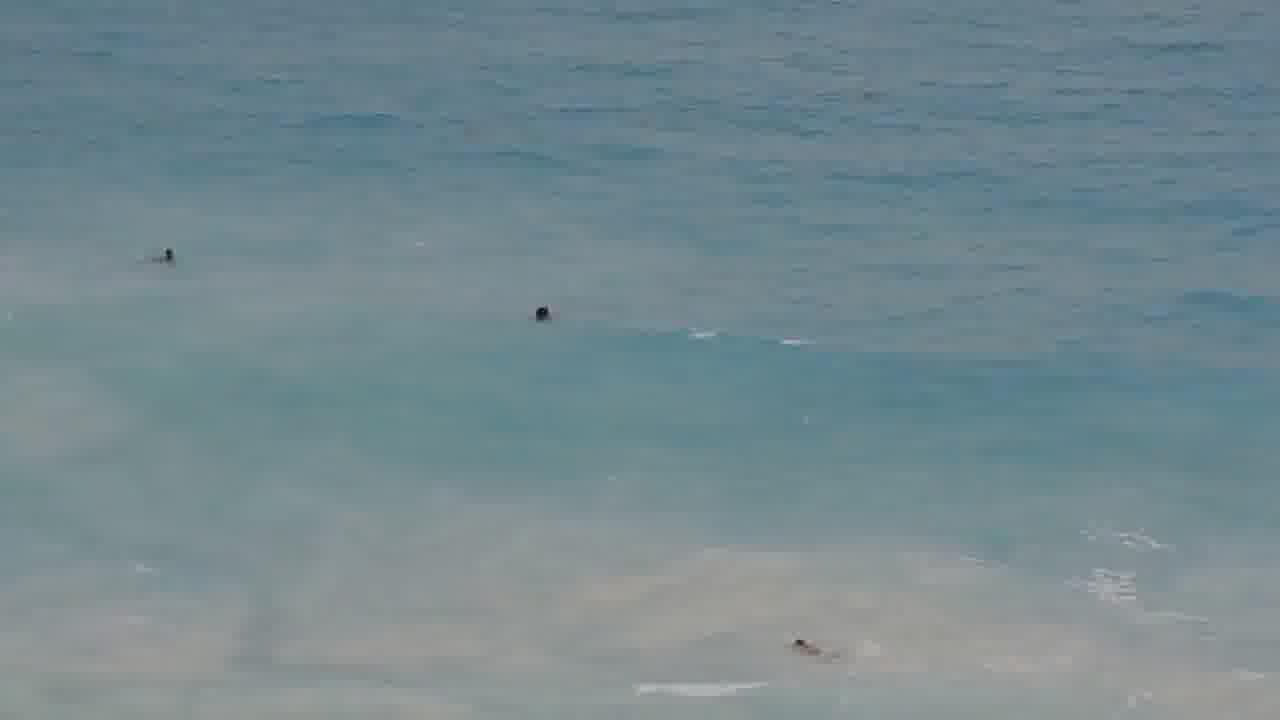human: (767, 623, 830, 663), (517, 283, 562, 336), (142, 231, 187, 283)
